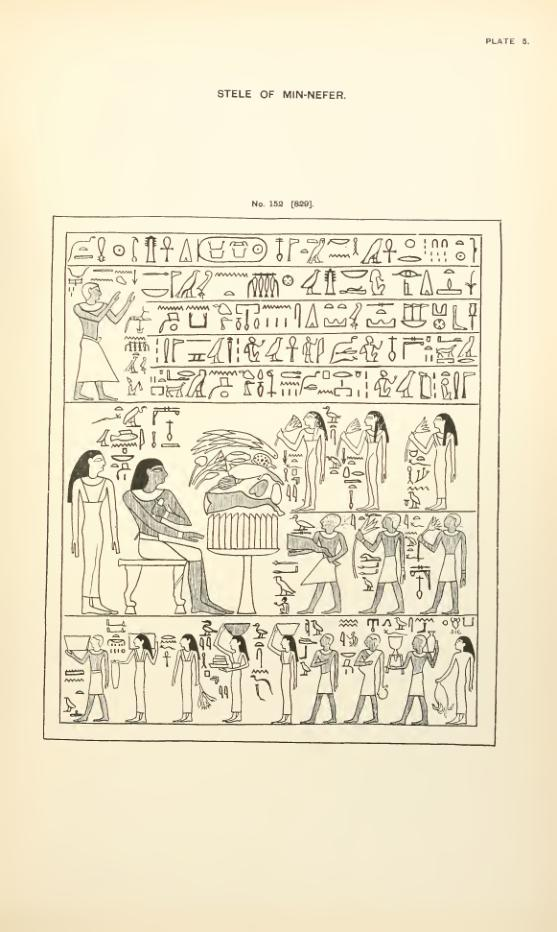circle: (193, 235, 268, 263)
